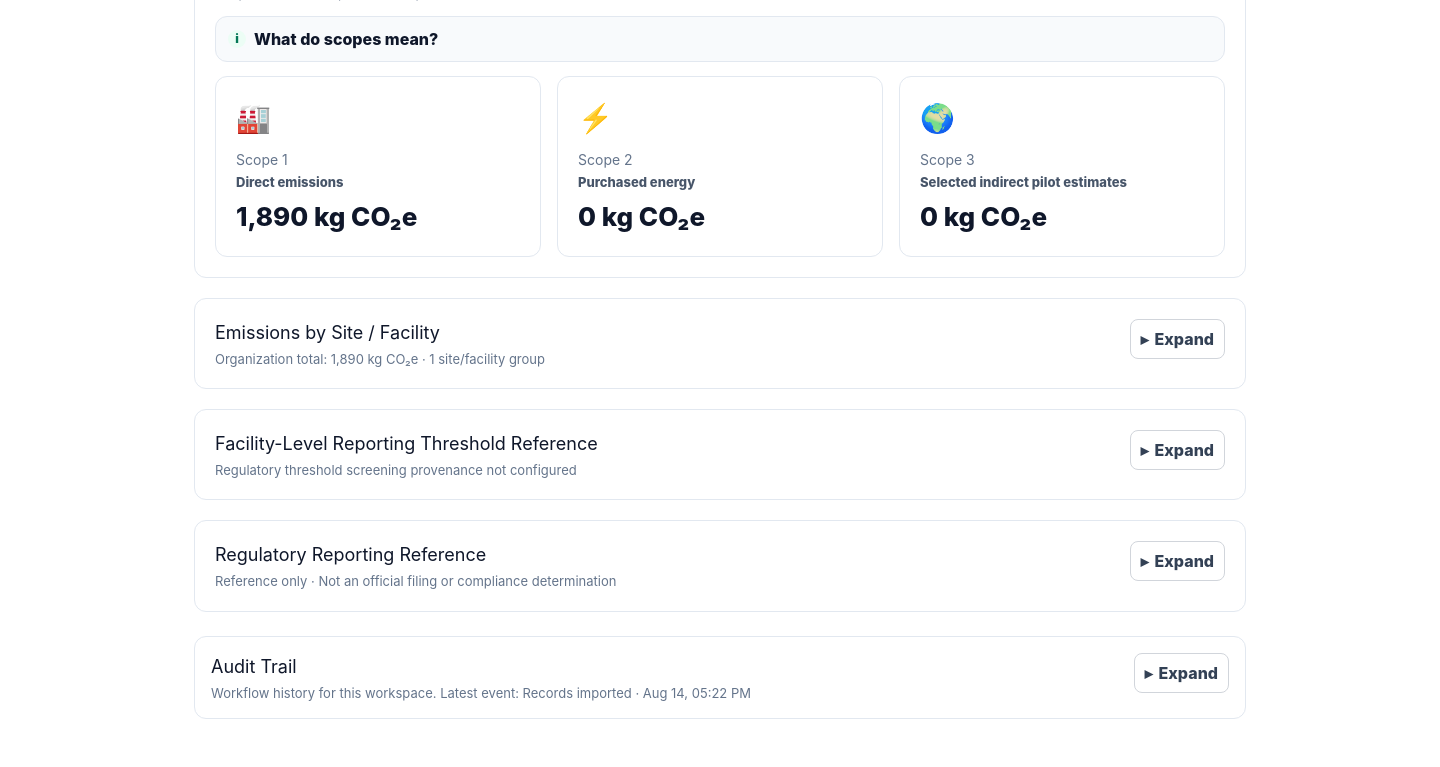
Test: ReportingPage audit trail › shows reconciled import audit categories for previously imported skipped rows
(page scrolled)
Click the button with aria-label "Audit Trail": (1181, 673) [1134,653,1229,693]
(page scrolled)
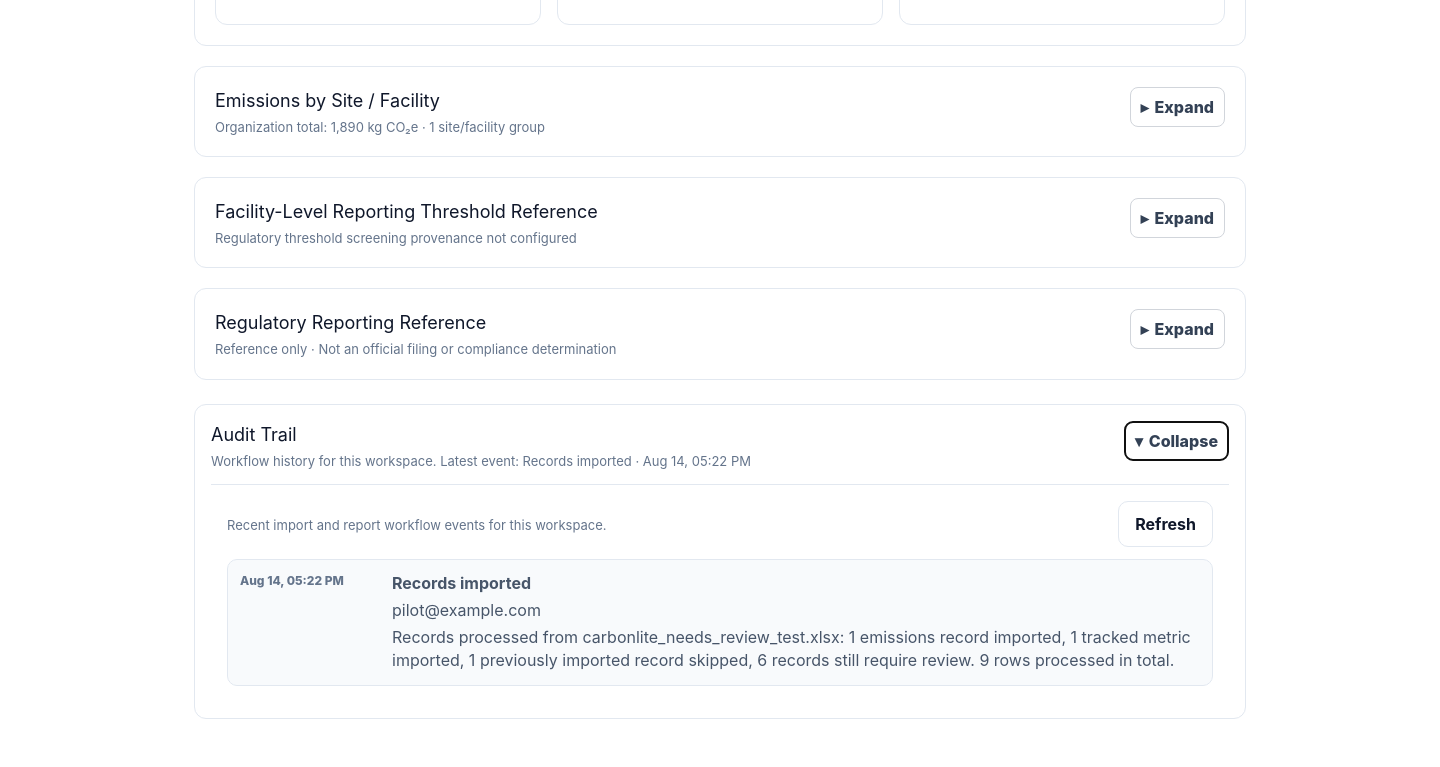
Expected: the text "Records processed from carbonlite_needs_review_test.xlsx: 1 emissions record imported, 1 tracked metric imported, 1 pre" is shown, [392,627,1191,670]
